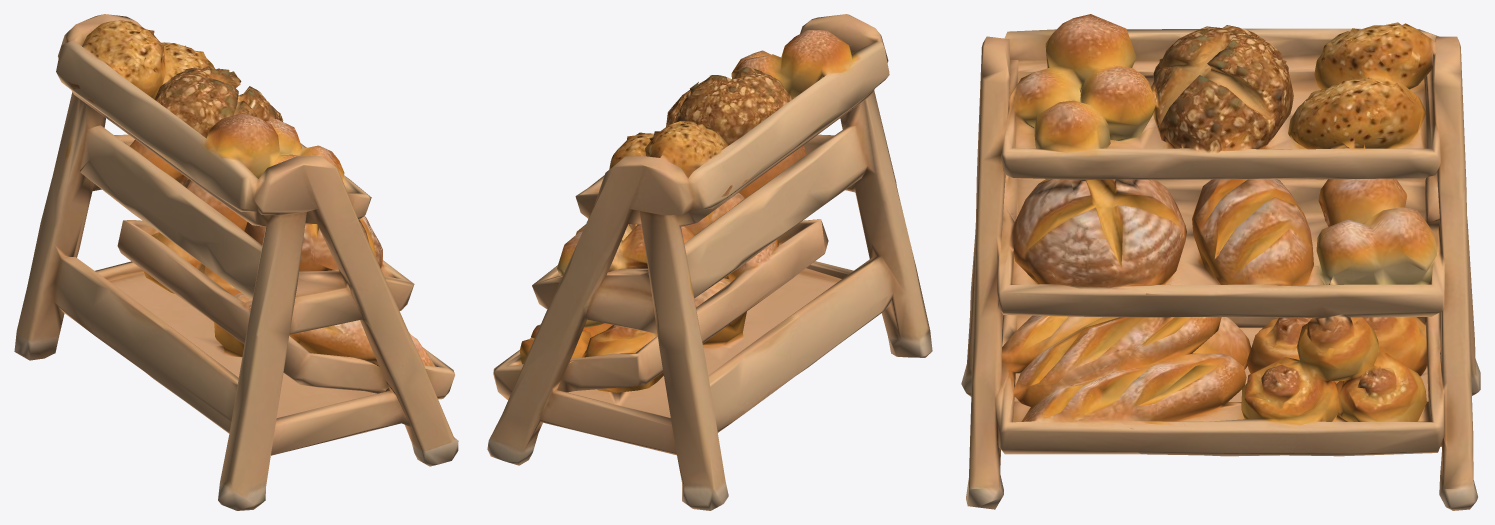
The model's file is breadrack.glb.
3 renders of one model, left to right at view 1: azimuth 30°, elevation 25°; view 2: azimuth 150°, elevation 25°; view 3: azimuth 270°, elevation 25°, orthographic. The views are drawn at different scales.
Parts seen in each view (by area): view 1: bread_rack; view 2: bread_rack; view 3: bread_rack.
Part boxes in pixels (<box>): bread_rack: <box>14,14,458,510</box>; bread_rack: <box>487,14,932,510</box>; bread_rack: <box>961,14,1480,510</box>.
Size of the model in its own units: 0.7314 by 1 by 1.16.
Materials: 1 (1 with a texture image).
